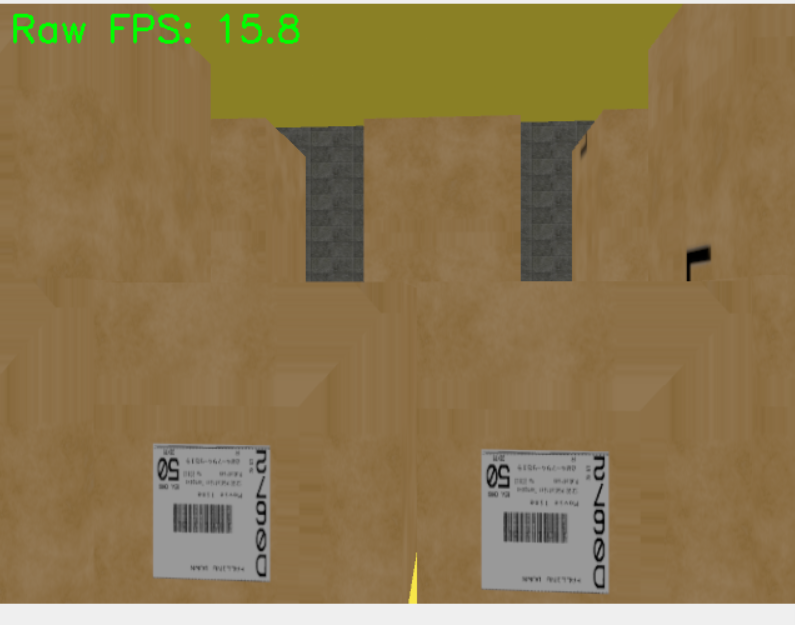barcode: (481, 450, 610, 594), (149, 439, 274, 584)
